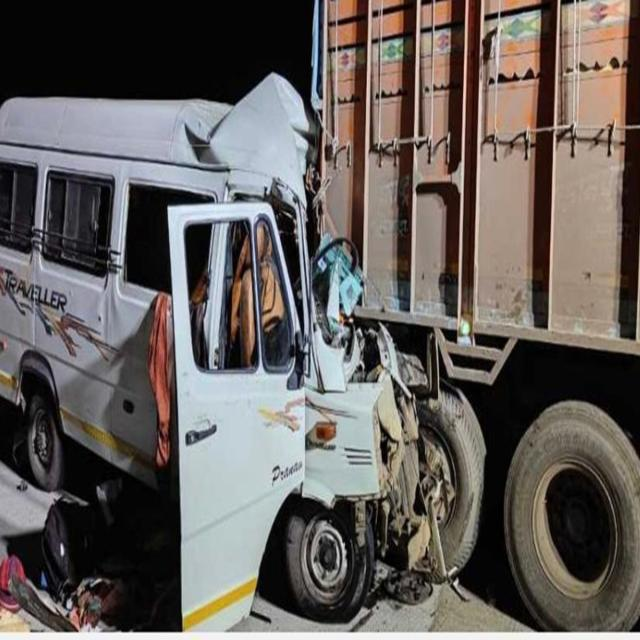accident: (0, 76, 442, 629)
truck: (315, 0, 640, 630)
